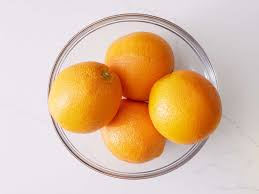orange: (148, 69, 223, 143), (49, 60, 124, 133), (101, 32, 178, 102), (100, 100, 171, 166)
